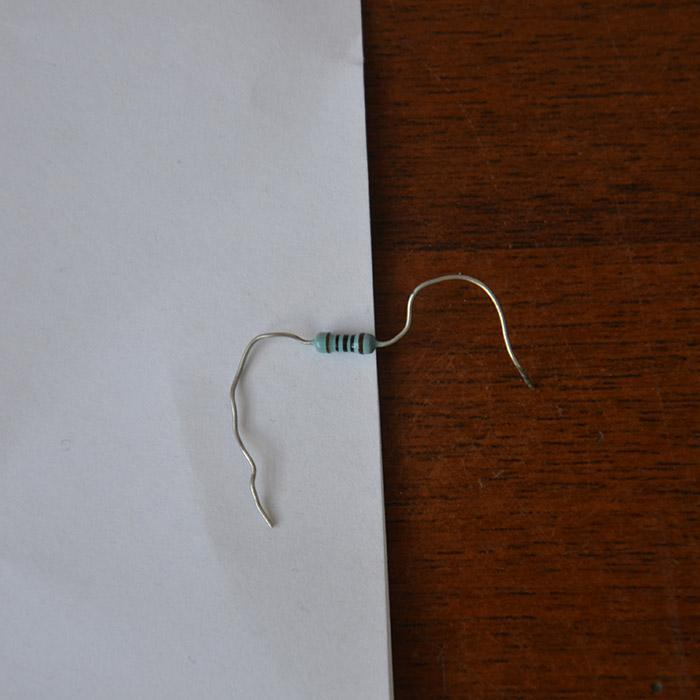resistor: (313, 330, 377, 354)
